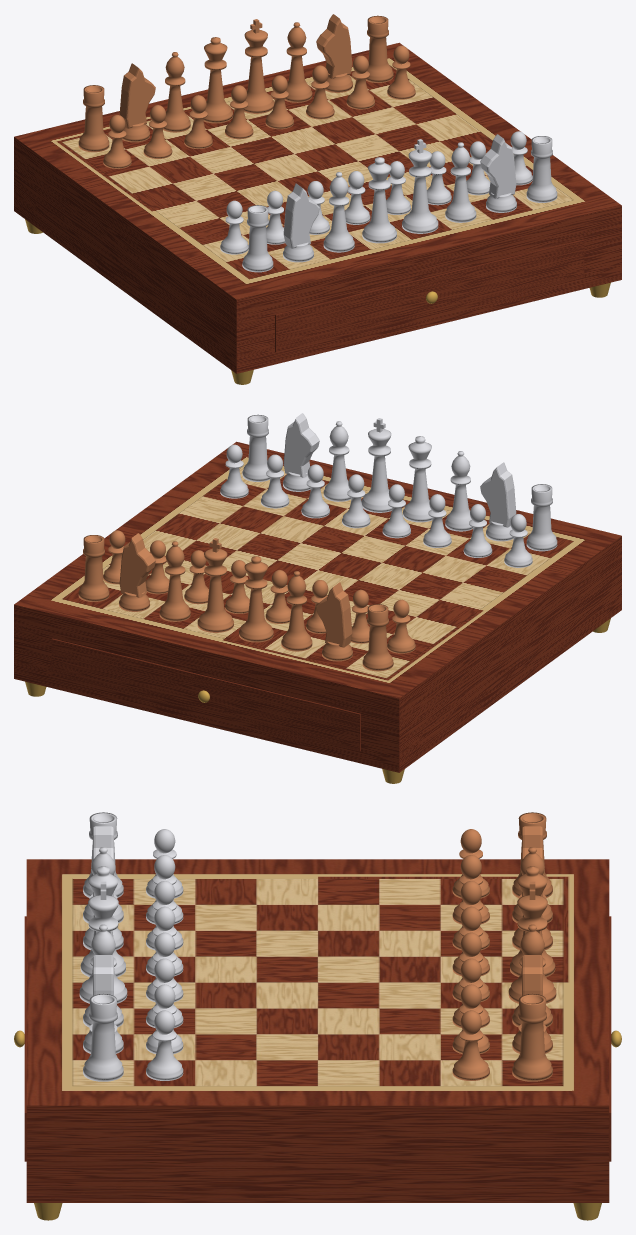
File: philidor-3d-ebene-pieds-38.glb
3 renders of one model, top to bottom at view 1: azimuth 30°, elevation 25°; view 2: azimuth 150°, elevation 25°; view 3: azimuth 270°, elevation 25°, orthographic. The views are drawn at different scales.
Parts seen in each view (by area): view 1: ebene-pieds-38; view 2: ebene-pieds-38; view 3: ebene-pieds-38.
Part boxes in pixels (x1,y1,x2,y2): ebene-pieds-38: [14, 14, 621, 384]; ebene-pieds-38: [14, 413, 621, 783]; ebene-pieds-38: [14, 812, 621, 1220].
Size of what is drawn, in the model's own units: 0.38 by 0.169 by 0.3967.
Materials: 6 (3 with a texture image).
